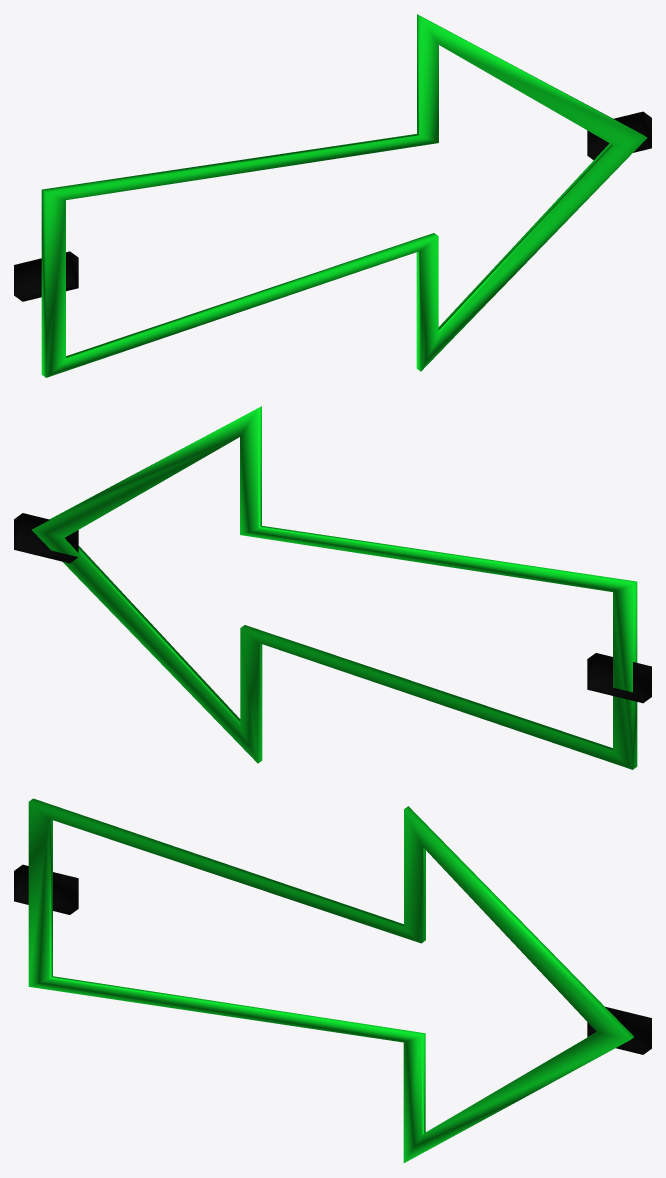
The model's file is NeonArrow.fbx.
The picture shows the model from 3 angles, top to bottom: view 1: azimuth 30°, elevation 25°; view 2: azimuth 150°, elevation 25°; view 3: azimuth 330°, elevation 25°; orthographic projection.
Parts seen in each view (by area): view 1: Cube; view 2: Cube; view 3: Cube.
Boxes of the visible parts, x1,y1,x2,y2 form: Cube: [14, 14, 651, 377]; Cube: [14, 406, 651, 769]; Cube: [14, 798, 651, 1162].
Size of the model in its own units: 335 by 180 by 12.06.
